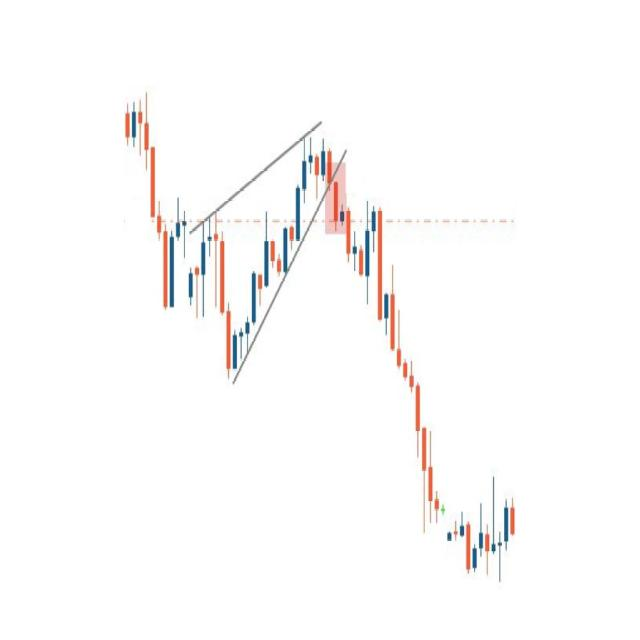Rising-Wedge: (135, 124, 340, 441)
